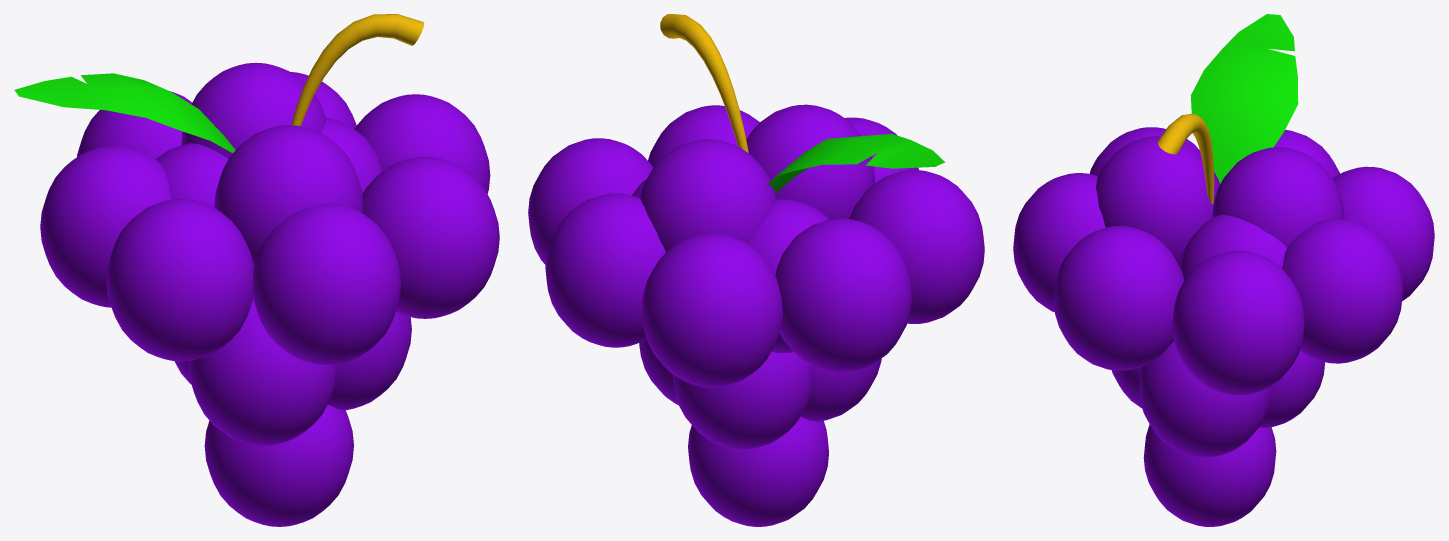
Rendered from anggur.fbx.
3 views of the same model, side by side, from view 1: azimuth 30°, elevation 25°; view 2: azimuth 150°, elevation 25°; view 3: azimuth 270°, elevation 25° (orthographic). The views are drawn at different scales.
Visible parts, largest first — view 1: Anggur, BézierCurve; view 2: Anggur, BézierCurve; view 3: Anggur, BézierCurve.
Boxes of the visible parts, x1,y1,x2,y2 form: Anggur: [14, 62, 499, 526]; BézierCurve: [291, 14, 424, 126]; Anggur: [528, 104, 984, 526]; BézierCurve: [660, 14, 748, 153]; Anggur: [1013, 14, 1434, 526]; BézierCurve: [1157, 114, 1214, 204].
Size of the model in its own units: 752 by 799 by 691.
